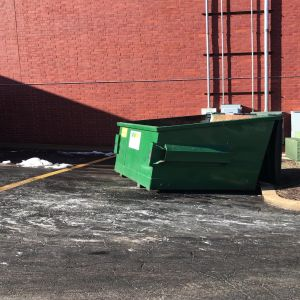Dumpster: (112, 111, 291, 199)
